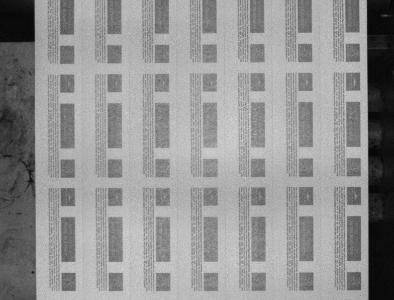backgroundclutter: (31, 271, 34, 274)
